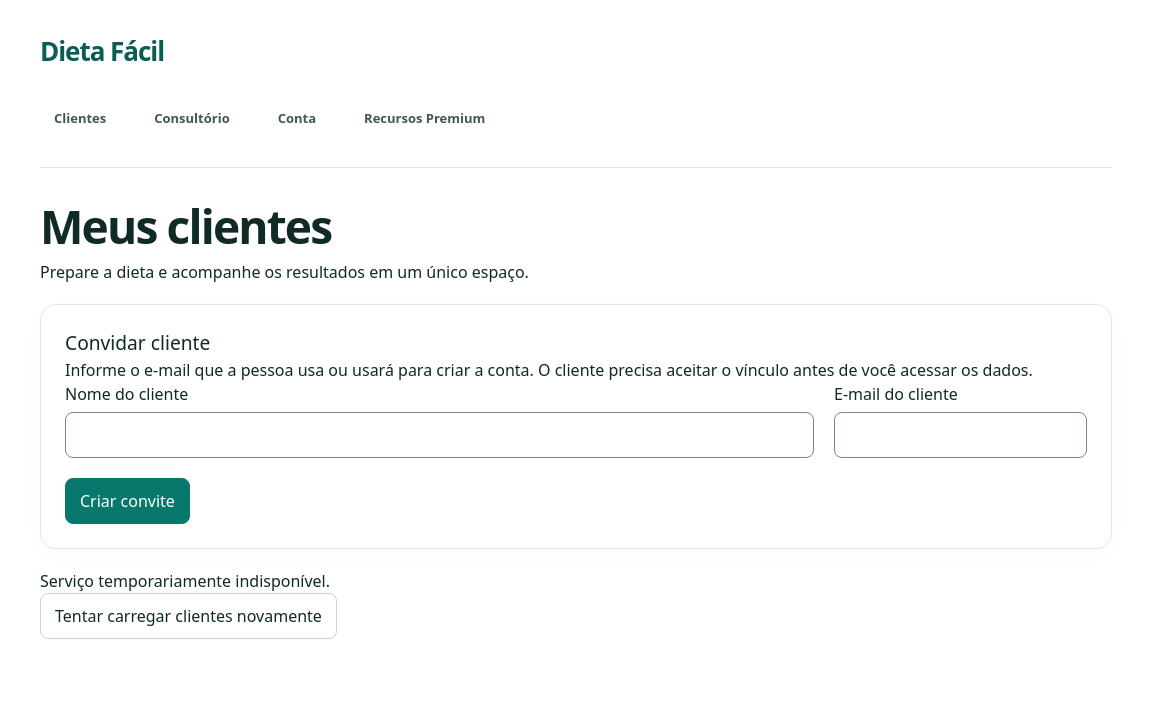
Scenario: permite recuperar uma lista indisponível sem recarregar a página
Expected: the message shows "Serviço temporariamente indisponível", [40,570,330,592]
Click the button "Tentar carregar clientes novamente" at point(188, 616), box [40,593,337,639]
(page scrolled)
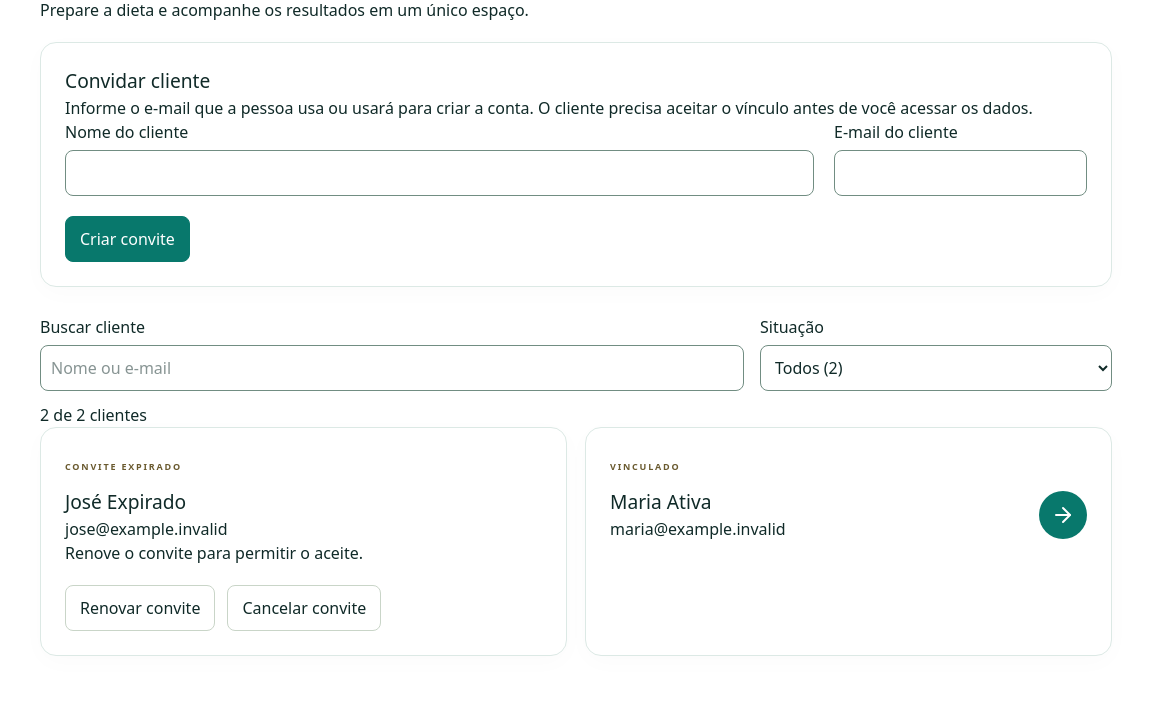
Now the element "Maria Ativa" is shown, box [585,427,1112,656]
